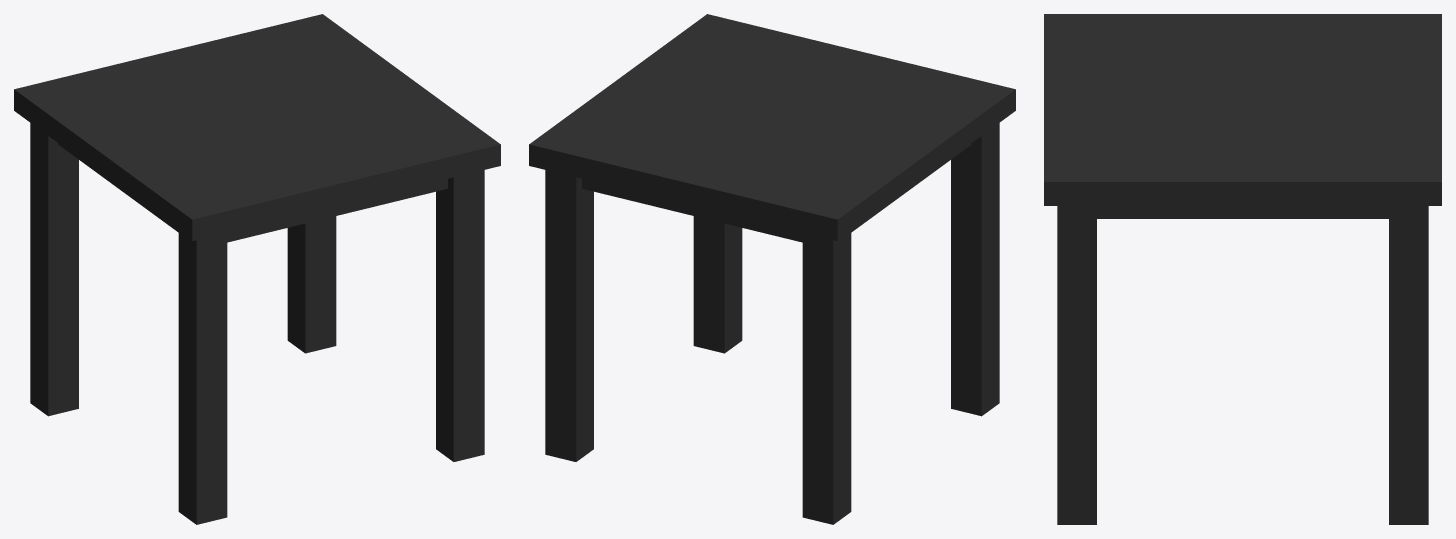
Rendered from Table.obj.
3 views of the same model, side by side, from view 1: azimuth 30°, elevation 25°; view 2: azimuth 150°, elevation 25°; view 3: azimuth 270°, elevation 25° (orthographic). The views are drawn at different scales.
Size of the model in its own units: 3 by 2.9 by 3.
